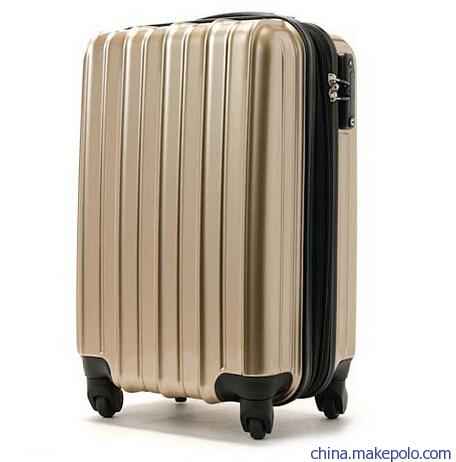luggage: (75, 12, 364, 444)
